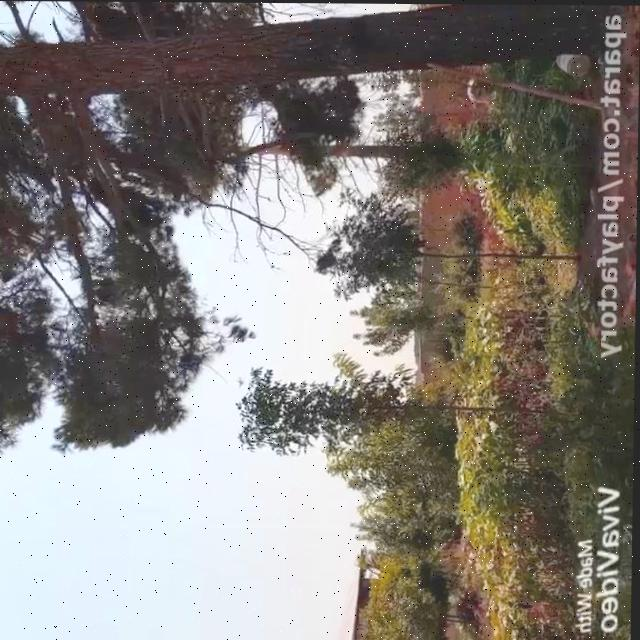drone: (229, 369, 248, 391)
